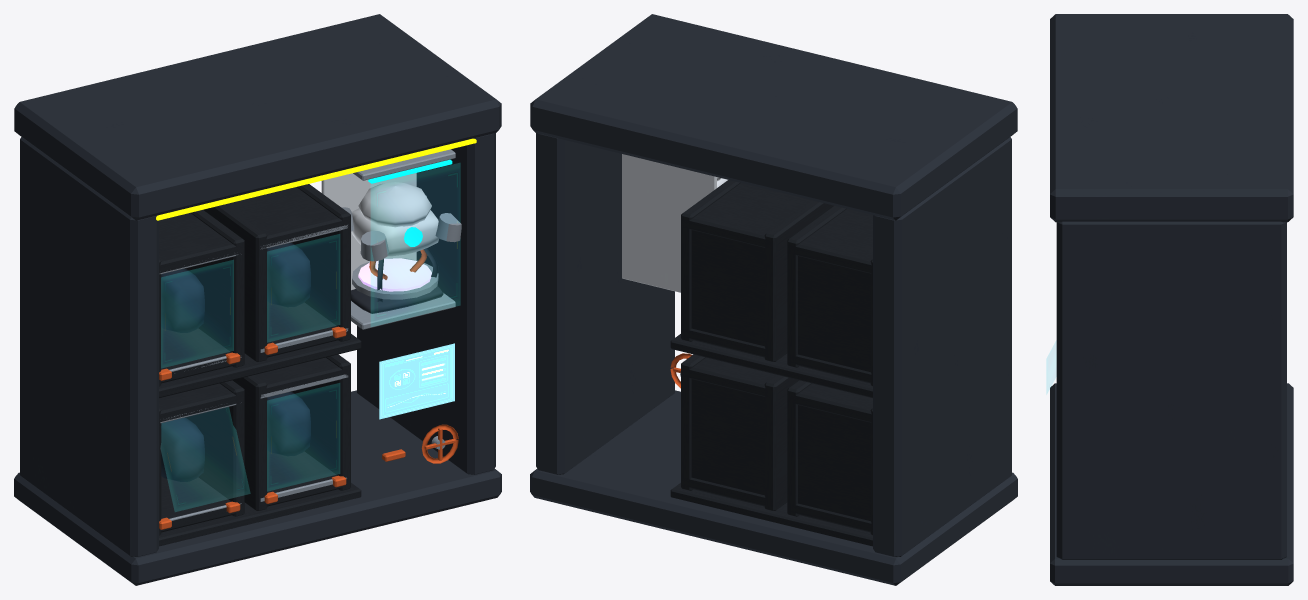
File: cargo_gantry_r1_04.glb
The picture shows the model from 3 angles, left to right: view 1: azimuth 30°, elevation 25°; view 2: azimuth 150°, elevation 25°; view 3: azimuth 270°, elevation 25°; orthographic projection.
Parts seen in each view (by area): view 1: Cargo04_PaternosterCarbonFrame, Cargo04_GunmetalCarouselPods, Cargo04_TranslucentPodWindows, Cargo04_NavyCargoPacks, Cargo04_PaternosterDriveAndThrusters, Cargo04_WhiteDroneAndDrums, Cargo04_OLEDOperatorBridge, Cargo04_SignalOrangeChainLocks, Cargo04_AmberElevatorBeacons, Cargo04_UVChargePerch, Cargo04_CharcoalCradlePads, Cargo04_CyanCarouselLEDs; view 2: Cargo04_PaternosterCarbonFrame, Cargo04_GunmetalCarouselPods, Cargo04_WhiteDroneAndDrums; view 3: Cargo04_PaternosterCarbonFrame.
Boxes of the visible parts, x1,y1,x2,y2 form: Cargo04_PaternosterCarbonFrame: (14, 14, 501, 585); Cargo04_GunmetalCarouselPods: (159, 184, 361, 546); Cargo04_TranslucentPodWindows: (161, 163, 459, 511); Cargo04_NavyCargoPacks: (161, 243, 310, 481); Cargo04_PaternosterDriveAndThrusters: (159, 149, 461, 520); Cargo04_WhiteDroneAndDrums: (321, 173, 439, 290); Cargo04_OLEDOperatorBridge: (379, 343, 454, 419); Cargo04_SignalOrangeChainLocks: (159, 249, 458, 529); Cargo04_AmberElevatorBeacons: (156, 138, 476, 220); Cargo04_UVChargePerch: (358, 258, 431, 291); Cargo04_CharcoalCradlePads: (351, 247, 443, 313); Cargo04_CyanCarouselLEDs: (368, 159, 452, 246); Cargo04_PaternosterCarbonFrame: (530, 14, 1017, 585); Cargo04_GunmetalCarouselPods: (670, 180, 872, 546); Cargo04_WhiteDroneAndDrums: (622, 154, 727, 292); Cargo04_PaternosterCarbonFrame: (1050, 14, 1293, 585).
Size of the model in its own units: 2.55 by 2.62 by 1.48.
Materials: 12 (12 with a texture image).
